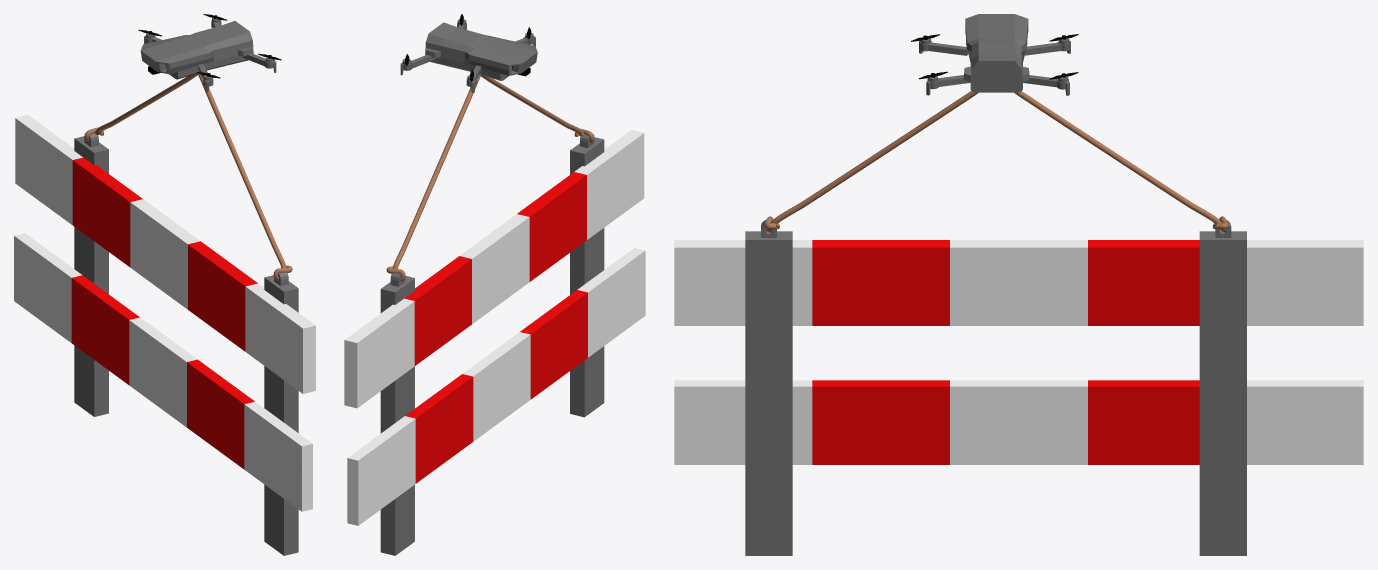
File: DroneRacingAirObstacle.fbx
3 renders of one model, left to right at view 1: azimuth 30°, elevation 25°; view 2: azimuth 150°, elevation 25°; view 3: azimuth 270°, elevation 25°, orthographic. The views are drawn at different scales.
Visible parts, largest first — view 1: Cube.001, Cube, Cube.002, Cube.004, DroneBody, Rope; view 2: Cube.001, Cube, Cube.004, Cube.002, DroneBody, Rope; view 3: Cube.001, Cube, Cube.002, Cube.004, DroneBody, Rope.
Boxes of the visible parts, x1,y1,x2,y2 form: Cube.001: [15, 115, 315, 393]; Cube: [14, 233, 312, 511]; Cube.002: [264, 272, 298, 555]; Cube.004: [74, 133, 108, 416]; DroneBody: [140, 20, 253, 79]; Rope: [84, 73, 292, 280]; Cube.001: [344, 130, 644, 408]; Cube: [347, 248, 645, 525]; Cube.004: [380, 273, 414, 555]; Cube.002: [570, 134, 604, 417]; DroneBody: [425, 22, 537, 80]; Rope: [386, 75, 593, 281]; Cube.001: [674, 240, 1363, 325]; Cube: [674, 380, 1363, 464]; Cube.002: [745, 220, 792, 555]; Cube.004: [1199, 220, 1246, 555]; DroneBody: [964, 14, 1029, 92]; Rope: [764, 91, 1228, 232].
Bounding box in the file's own units: 182 × 751 × 896.
